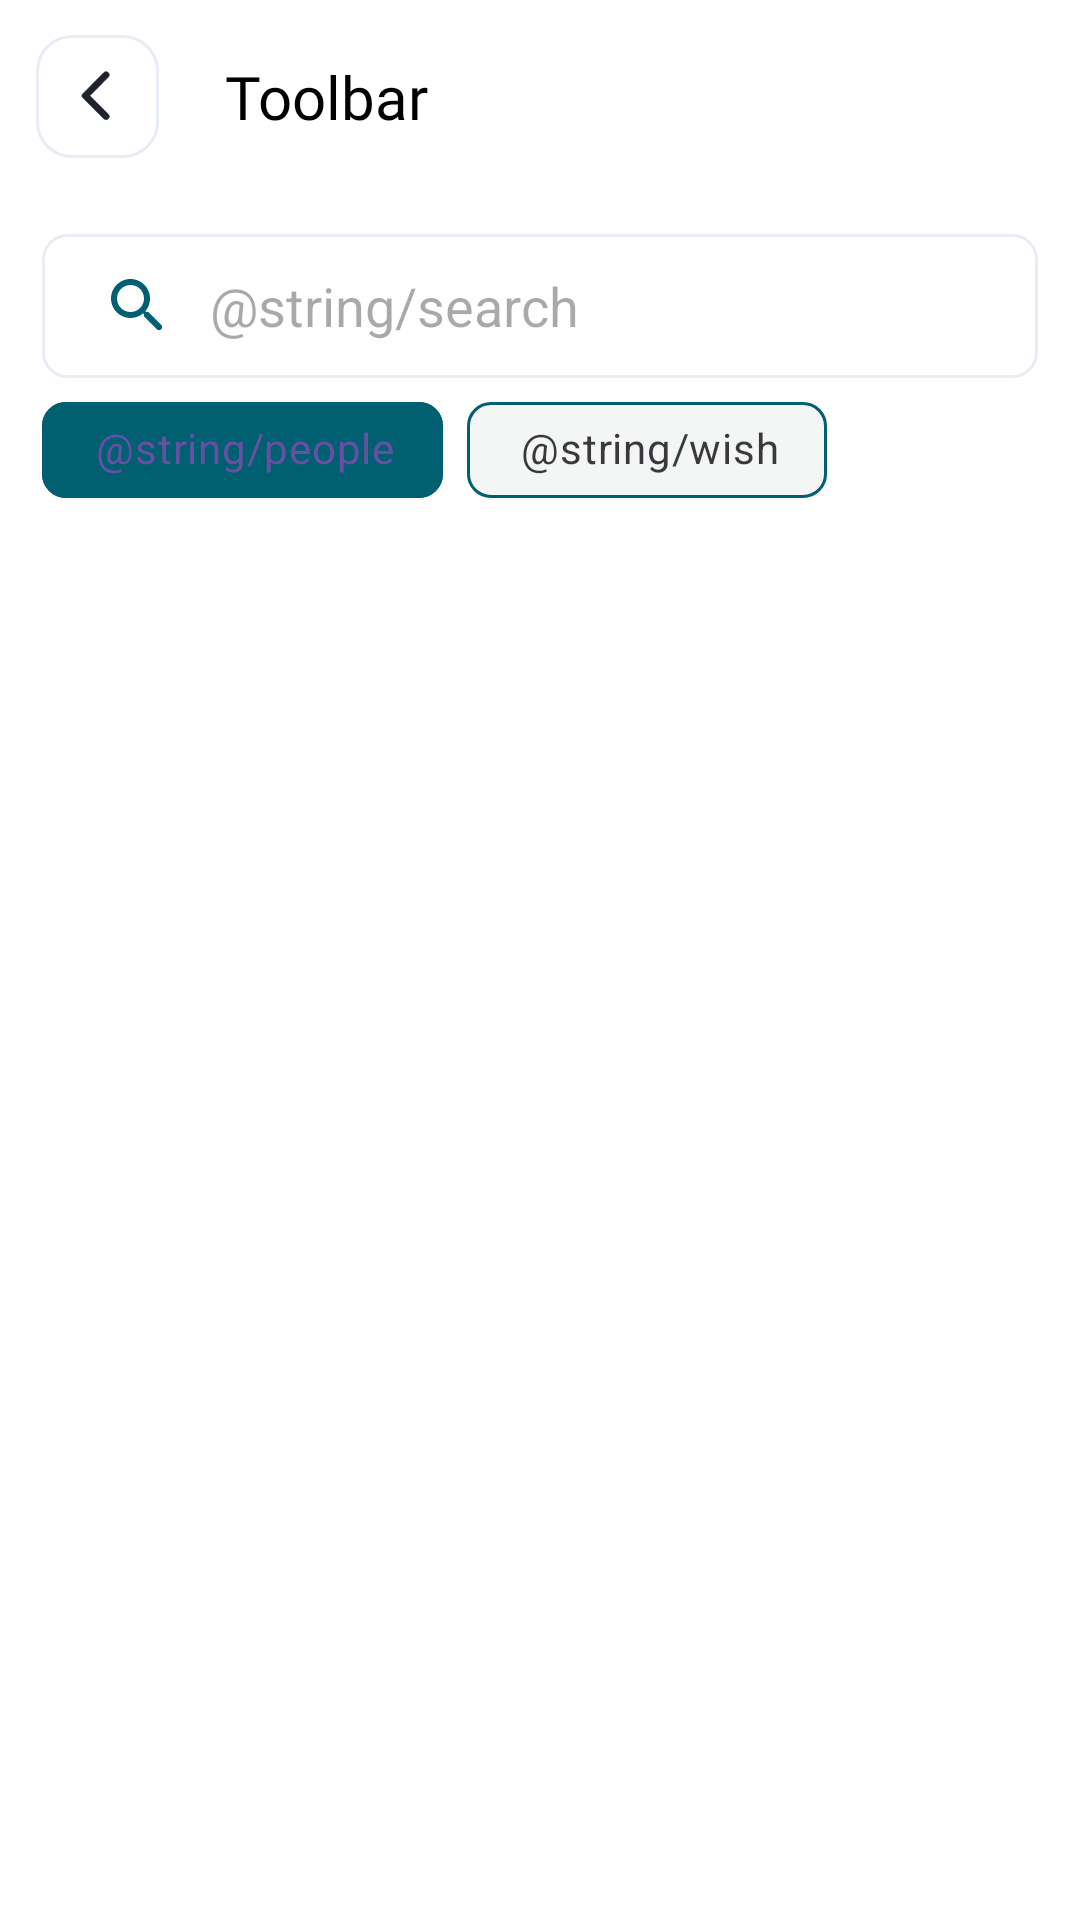

Where to tap for icons on this 1080px×1920px app screen, as (x=x, y=y):
back: (x=95, y=95)
